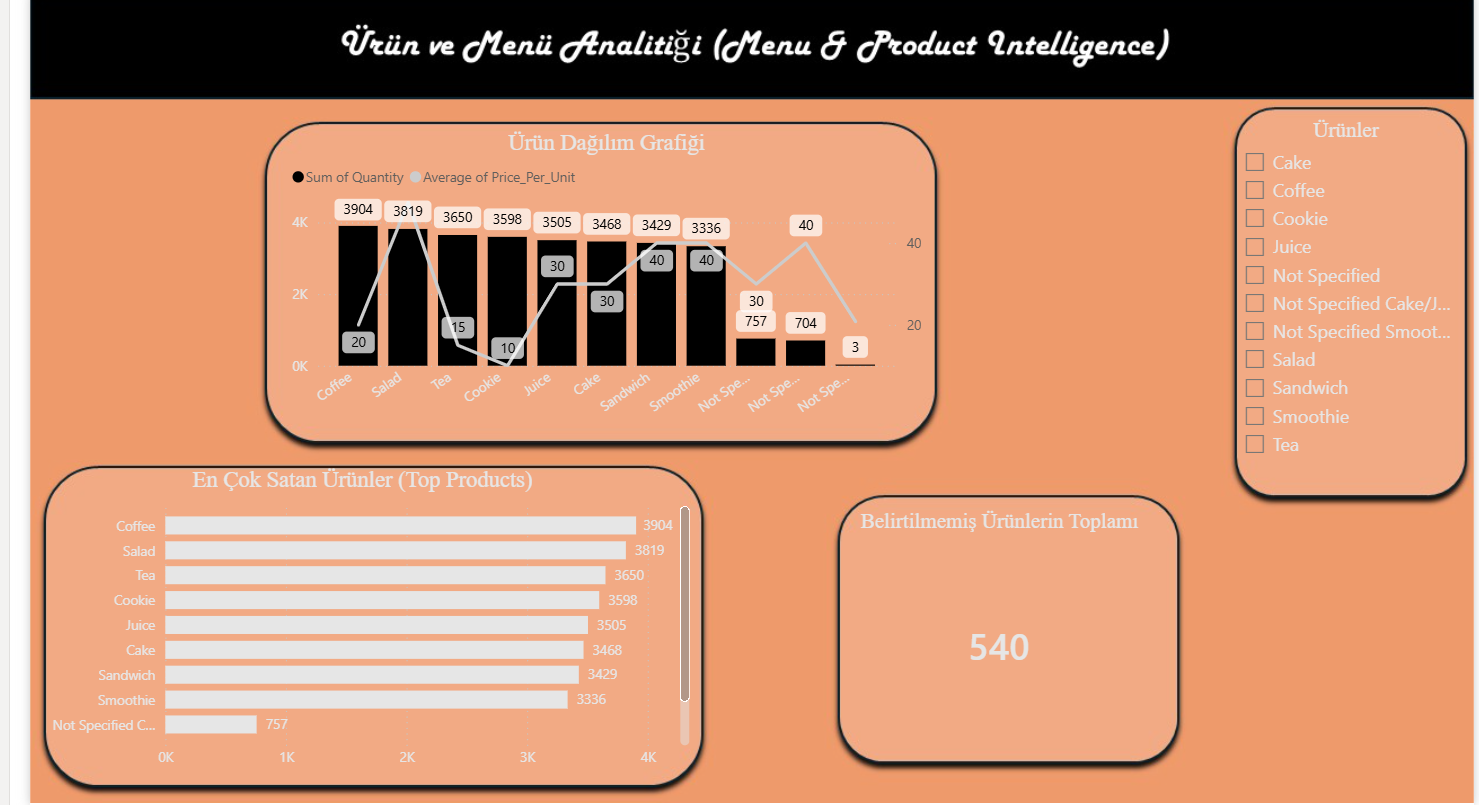

The dashboard page shown, as its layout file describes it:
{"tool":"powerbi","page":{"name":"Ürün","canvas":[1280,720],"ordinal":1},"visuals":[{"type":"clusteredBarChart","title":"En Çok Satan Ürünler (Top Products)","fields":{"Category":["vW_Cleaned_Cafe_Sales.Item"],"Y":["Sum(vW_Cleaned_Cafe_Sales.Quantity)"]},"box":[0,420.3,589.7,275.8],"z":0},{"type":"lineClusteredColumnComboChart","title":"Ürün Dağılım Grafiği","fields":{"Y":["Sum(vW_Cleaned_Cafe_Sales.Quantity)"],"Category":["vW_Cleaned_Cafe_Sales.Item"],"Y2":["Avg(vW_Cleaned_Cafe_Sales.Price_Per_Unit)"]},"box":[227,121.5,568.4,266],"z":1000},{"type":"slicer","title":"Ürünler","fields":{"Values":["vW_Cleaned_Cafe_Sales.Item"]},"box":[1064.9,110.8,203.9,318.3],"z":2000},{"type":"cardVisual","title":"Belirtilmemiş Ürünlerin Toplamı","fields":{"Data":["_Ölçüler.NoSpecified_Ciro"]},"box":[706.7,457.5,305.9,218.1],"z":3000}]}

Visuals, with their boxes on the page's 1280x720 design canvas (x1, y1, x2, y2). These are canvas units, not pixel positions in the 1479x805 screenshot, which may show the page scaled, cropped or inside an application window:
"En Çok Satan Ürünler (Top Products)" clusteredBarChart: (left=0, top=420, right=590, bottom=696)
"Ürün Dağılım Grafiği" lineClusteredColumnComboChart: (left=227, top=122, right=795, bottom=388)
"Ürünler" slicer: (left=1065, top=111, right=1269, bottom=429)
"Belirtilmemiş Ürünlerin Toplamı" cardVisual: (left=707, top=458, right=1013, bottom=676)
